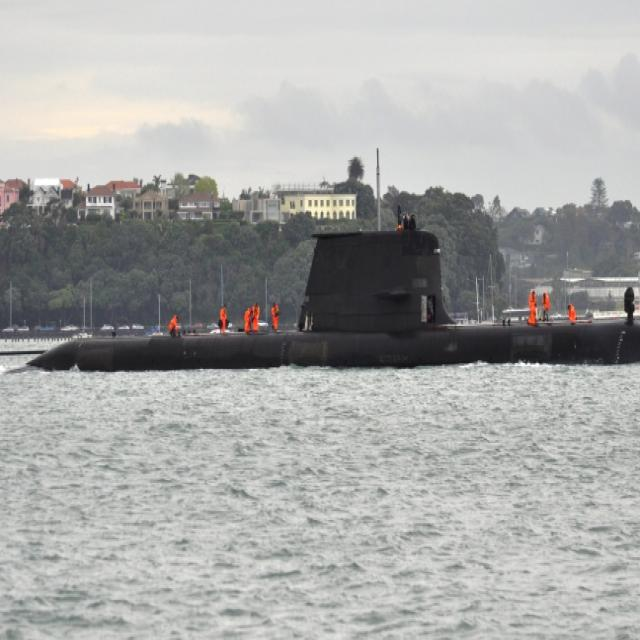submarine: (1, 231, 640, 377)
